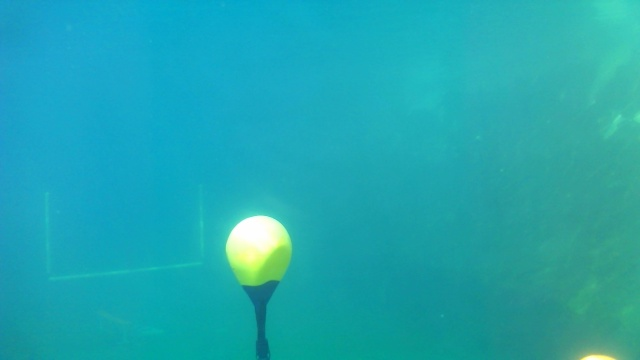channel: (41, 180, 206, 279)
